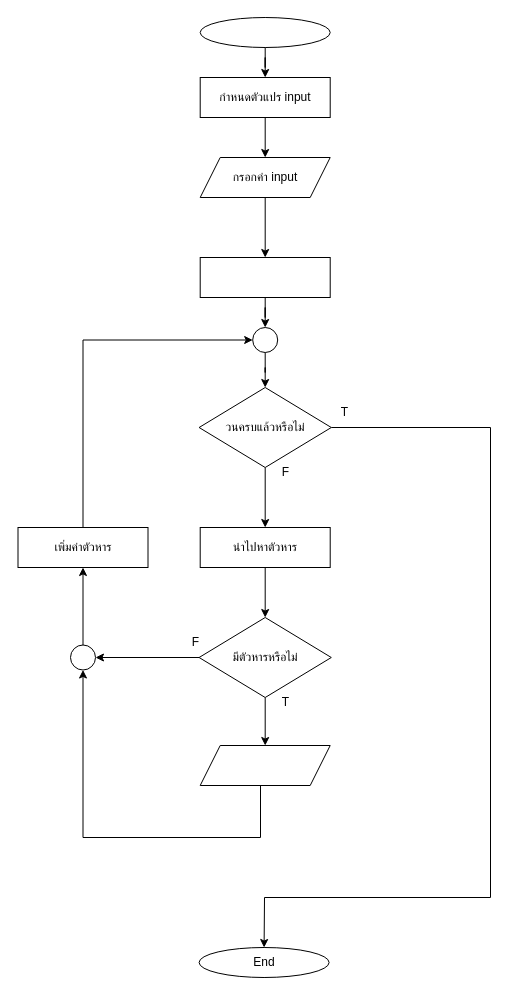
Image size: 516x995. Some labels were removed from this diagram. Here are the shapes that lost their labels. From the top down, the centre of each, then its label:
At (264,32): "Start".
At (264,277): "เริ้่มจากมากไปน้อย".
At (264,765): "แสดงค่าออกมา".
